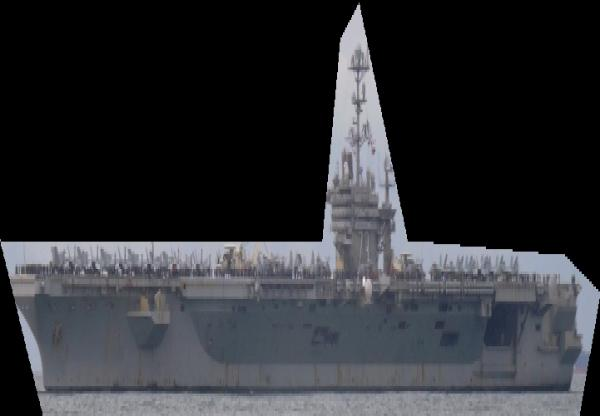Aircraft Carrier: (0, 2, 600, 416)
